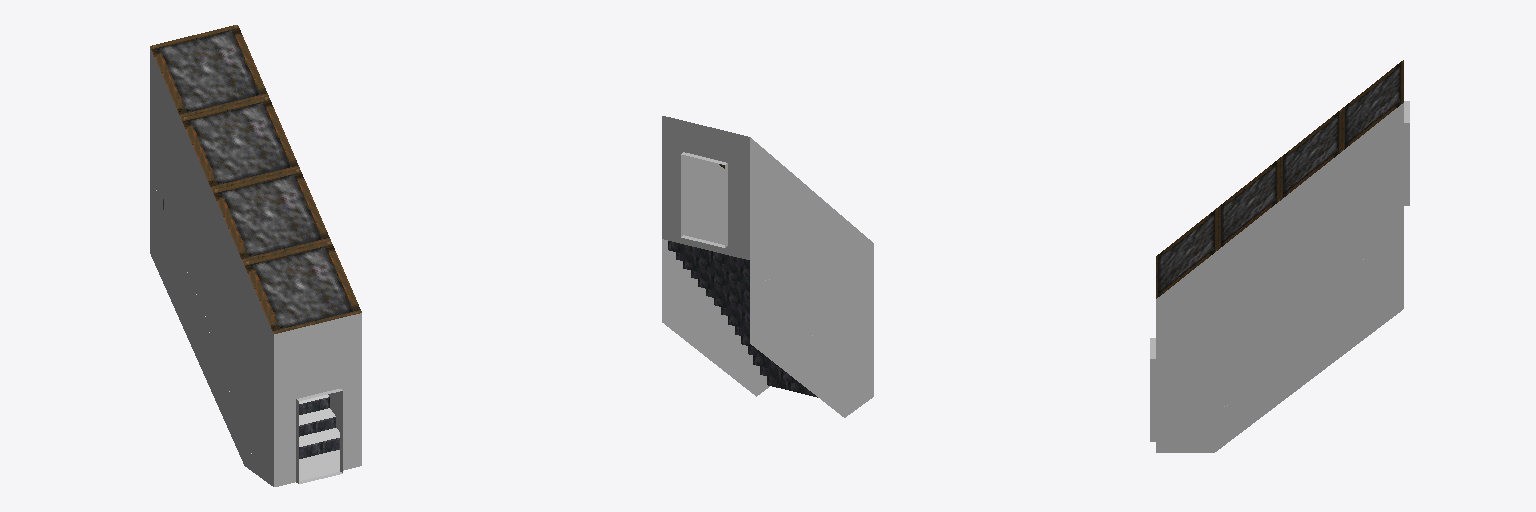
3 views of the same model, side by side, from view 1: azimuth 30°, elevation 25°; view 2: azimuth 150°, elevation 25°; view 3: azimuth 270°, elevation 25° (orthographic).
Parts seen in each view (by area): view 1: model58008-node_model58008; view 2: model58008-node_model58008; view 3: model58008-node_model58008.
Part boxes in pixels (x1,y1,x2,y2): model58008-node_model58008: (150, 25, 361, 486); model58008-node_model58008: (662, 116, 873, 417); model58008-node_model58008: (1150, 60, 1409, 452).
Bounding box in the file's own units: 2.5 × 9.5 × 6.4.
Materials: 5 (2 with a texture image).